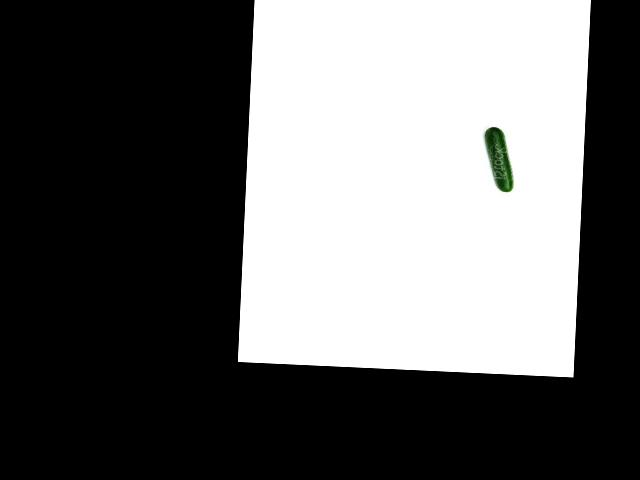cucumber: (482, 126, 515, 192)
